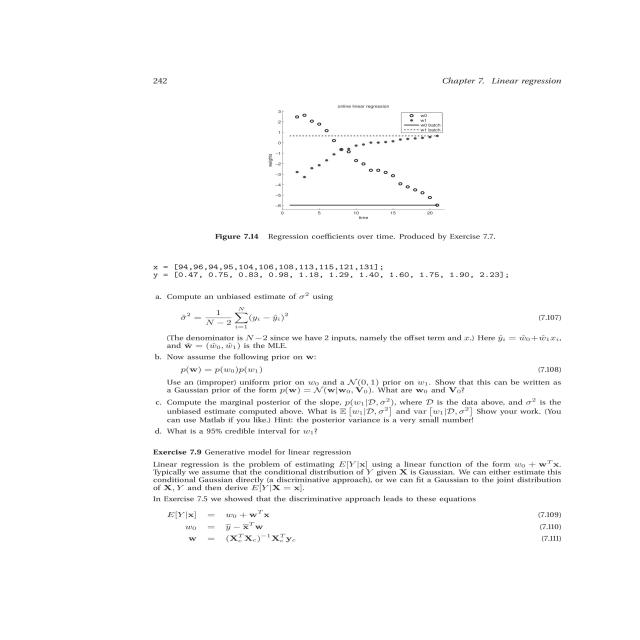diagram: (128, 94, 583, 250)
